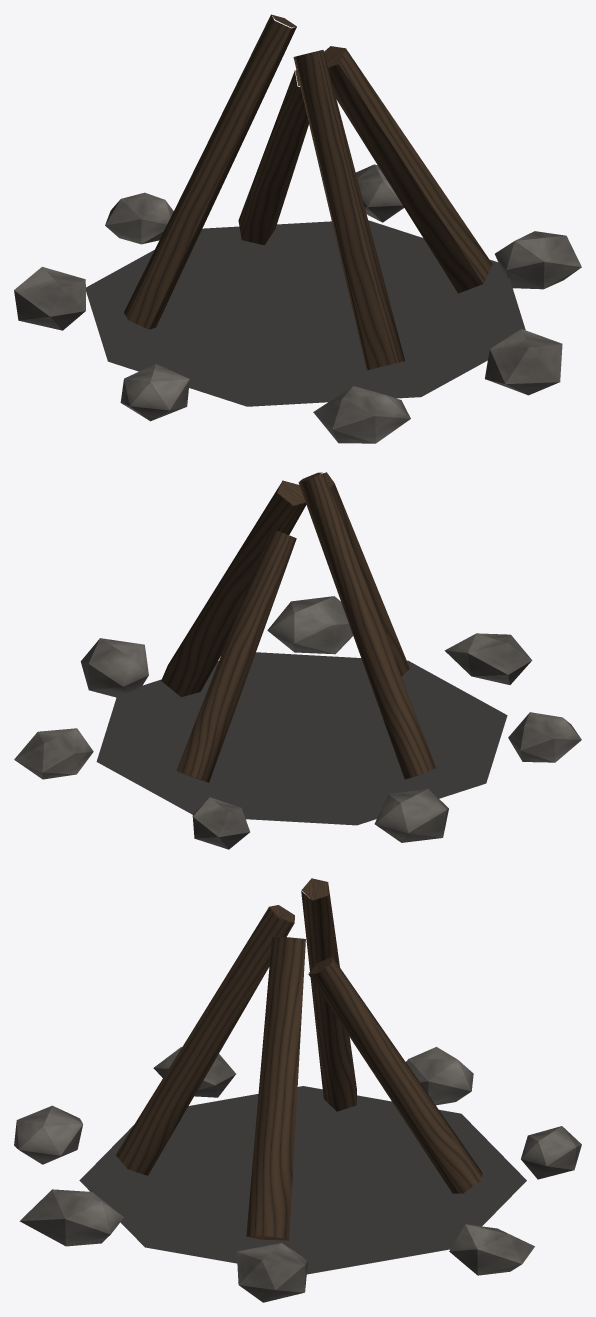
The model's file is campfireS_L0.glb.
The picture shows the model from 3 angles, top to bottom: view 1: azimuth 30°, elevation 25°; view 2: azimuth 150°, elevation 25°; view 3: azimuth 270°, elevation 25°; orthographic projection. The views are drawn at different scales.
Visible parts, largest first — view 1: ash, logs:bark, stones:stone; view 2: ash, logs:bark, stones:stone; view 3: ash, logs:bark, stones:stone.
Part boxes in pixels (left/top/right/bottom): ash: left=86, top=220, right=525, bottom=406; logs:bark: left=124, top=14, right=492, bottom=370; stones:stone: left=14, top=164, right=581, bottom=443; ash: left=96, top=652, right=507, bottom=825; logs:bark: left=161, top=472, right=435, bottom=782; stones:stone: left=14, top=596, right=581, bottom=849; ash: left=79, top=1086, right=526, bottom=1274; logs:bark: left=116, top=878, right=482, bottom=1240; stones:stone: left=14, top=1047, right=581, bottom=1302.
Size of the model in its own units: 0.5573 by 0.3369 by 0.5709.
Materials: 3 (2 with a texture image).
